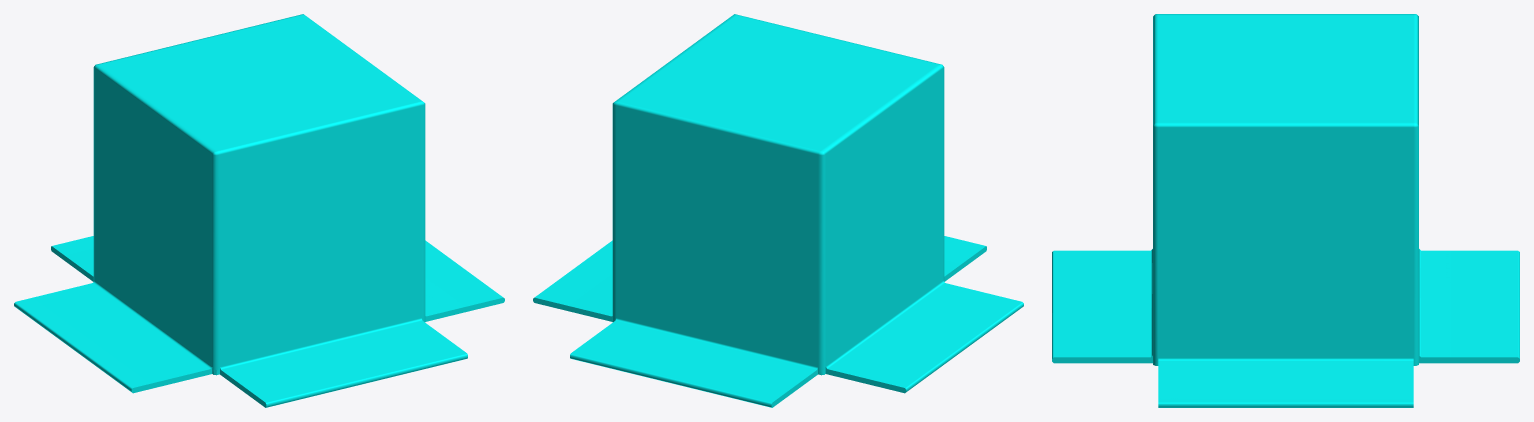
File: Square_Splayed_Box_Low.fbx
3 renders of one model, left to right at view 1: azimuth 30°, elevation 25°; view 2: azimuth 150°, elevation 25°; view 3: azimuth 270°, elevation 25°, orthographic. The views are drawn at different scales.
Visible parts, largest first — view 1: Square_Splayed_Box_low; view 2: Square_Splayed_Box_low; view 3: Square_Splayed_Box_low.
Part boxes in pixels (x1,y1,x2,y2): Square_Splayed_Box_low: [14, 14, 504, 407]; Square_Splayed_Box_low: [533, 14, 1023, 407]; Square_Splayed_Box_low: [1052, 14, 1519, 407].
Size of the model in its own units: 440 by 250 by 440.
